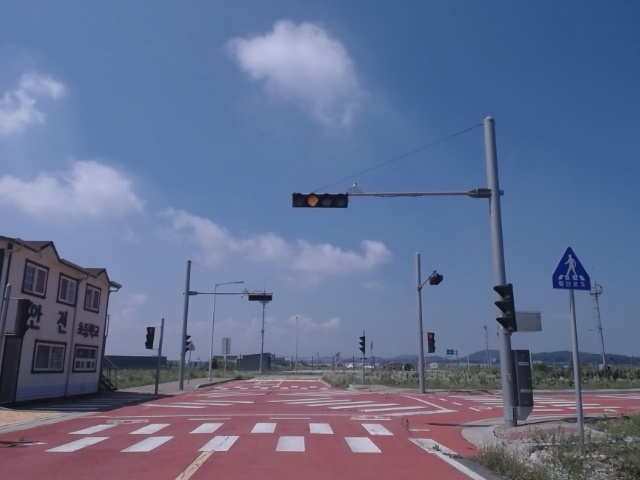orange_4: (294, 192, 349, 209)
